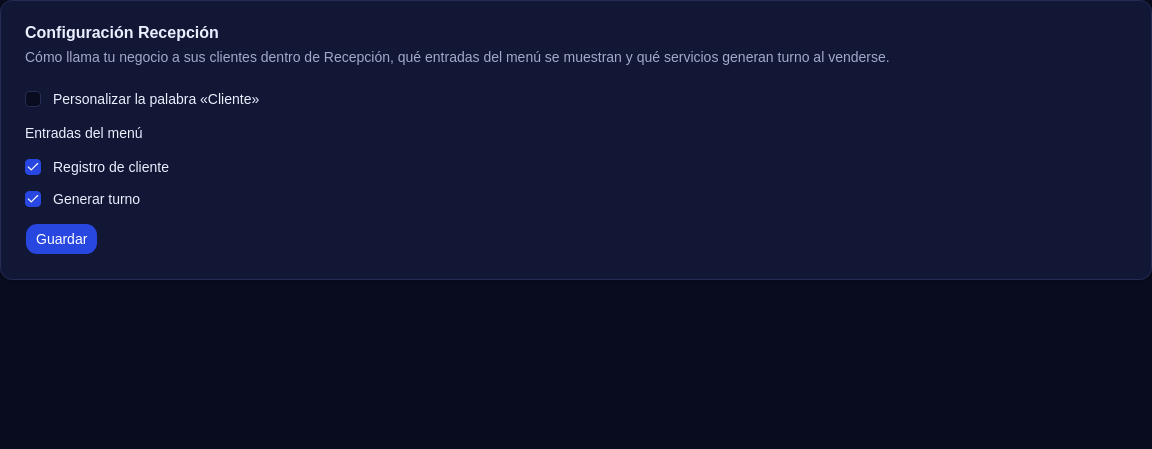
Scenario: «Configuración Recepción» en Mi perfil (F9-RECEP-18) › marcar «Personalizar» abre el campo; la palabra se previsualiza Capitalizada y Guardar manda solo eso
This screenshot has width=1152, height=449.
Check: the text "Configuración Recepción" is shown, box [25,24,219,41]
Click the checkbox named "Personalizar la palabra «Cliente»": (33, 99) [25,91,41,107]
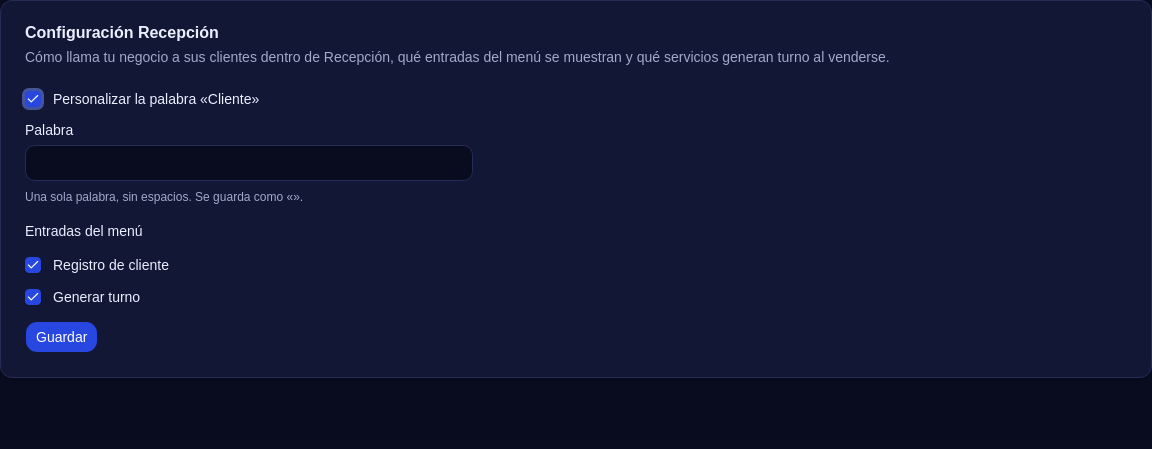
In the field labelled "Palabra": (249, 163) [25,145,473,181], type "pACIENTE"
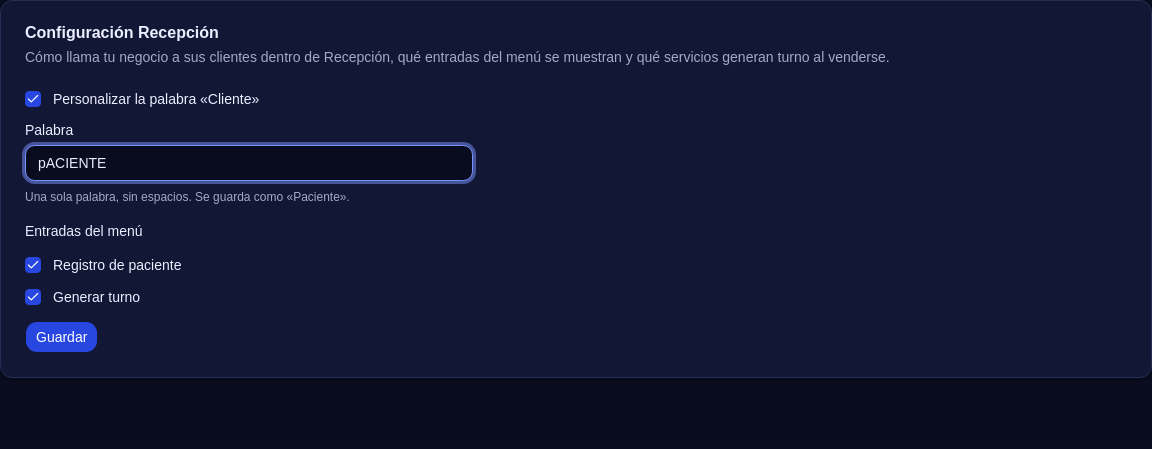
Check: the checkbox named "Registro de paciente" is checked, box [25,257,41,273]
Check: the text "Una sola palabra, sin espacios. Se guarda como «Paciente»." is shown, box [25,190,350,204]
Click the button "Guardar": (62, 337) [25,321,98,353]
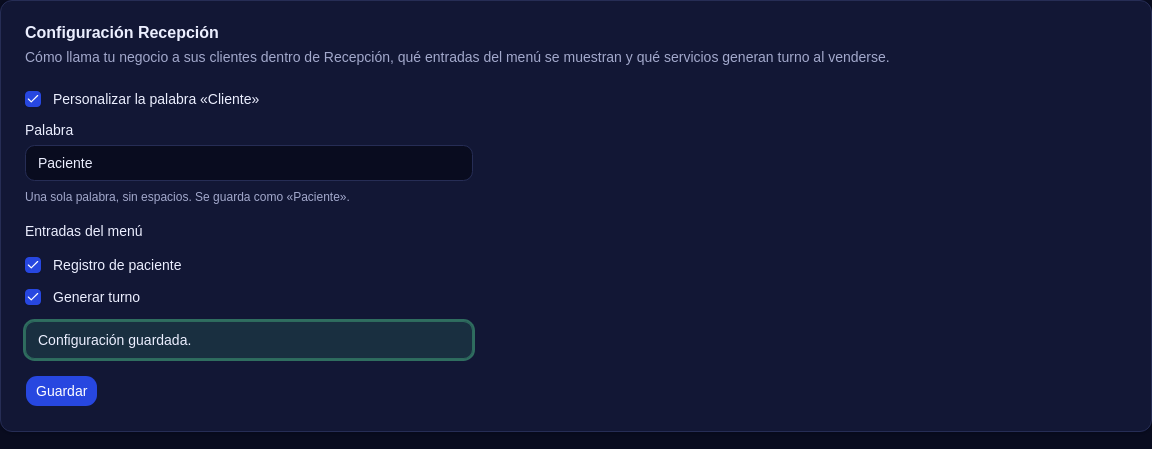
Check: the text "Configuración guardada." is shown, box [25,321,473,359]
